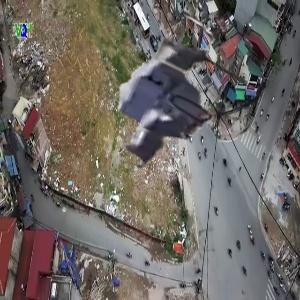drone: (71, 5, 250, 184)
